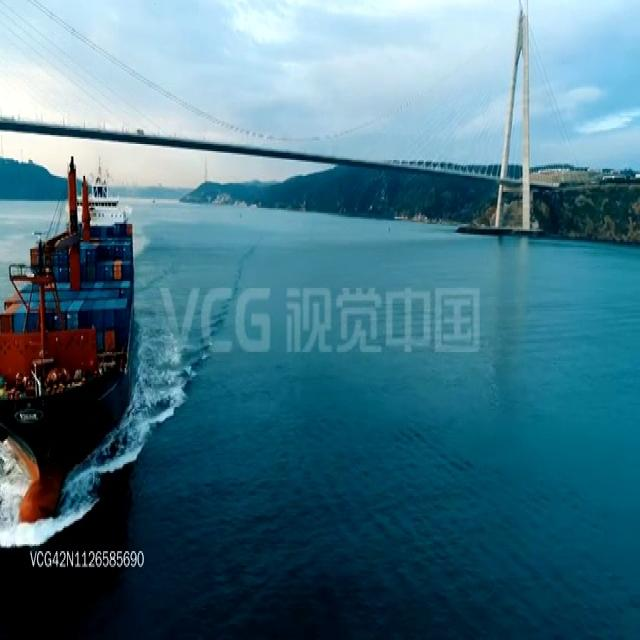cargoship: (0, 151, 138, 523)
